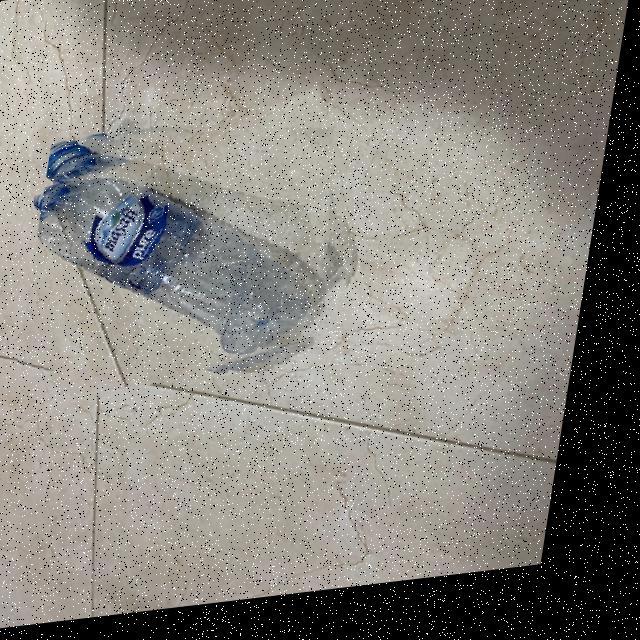litter: (25, 107, 371, 402)
